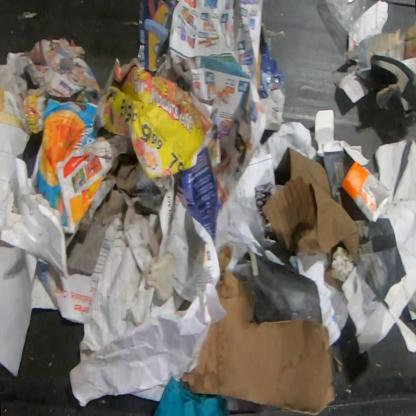cardboard: (180, 244, 337, 415), (260, 146, 361, 261), (342, 199, 415, 358), (314, 108, 370, 207), (338, 53, 415, 122), (258, 18, 288, 131), (136, 0, 178, 72), (324, 264, 344, 294), (400, 21, 415, 60)
rigid_plastic: (325, 0, 369, 46)
soft_plastic: (0, 64, 29, 99)
